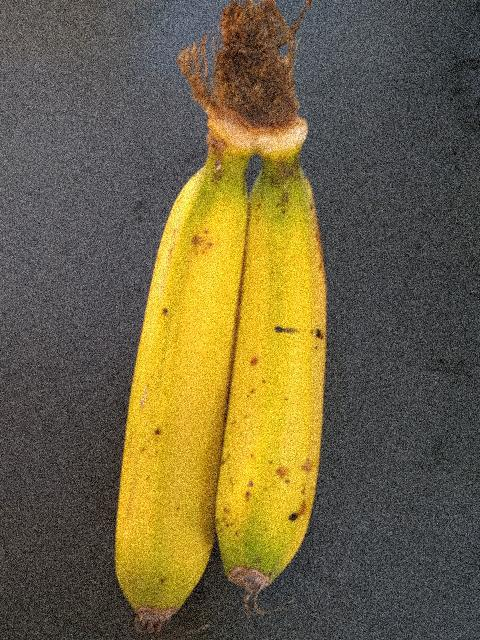freshripe: (101, 148, 260, 629)
ripe: (207, 176, 363, 613)
